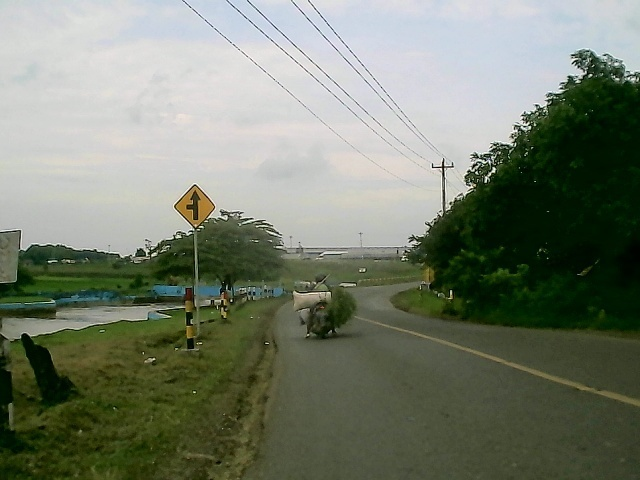Simpang kiri dengan prioritas: (171, 181, 219, 231)
